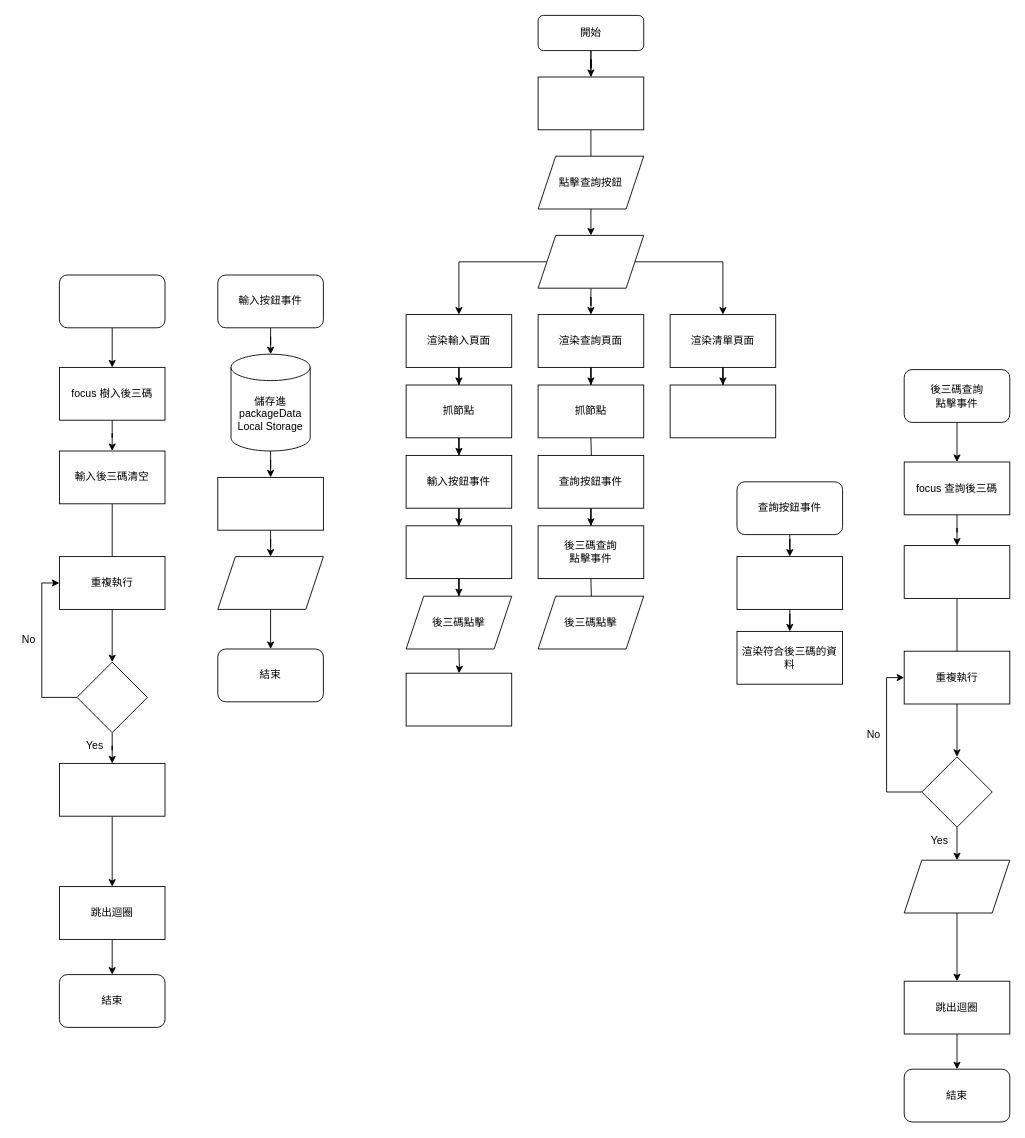
Image size: 1025x1138. Some labels were removed from this diagram. The shapes that lost their labels are listed below. From the top down, each one's centre as x and y in pixels, then its label:
At [590,103]: "頁面選擇按鈕事件".
At [590,261]: "選擇頁面".
At [112,301]: "輸入後三碼 點擊事件".
At [722,411]: "渲染清單".
At [270,503]: "清空 input 內容".
At [458,552]: "後三碼輸入 點擊事件".
At [956,571]: "查詢後三碼清空".
At [270,582]: "重新選擇輸出畫面".
At [789,582]: "找符合後三碼的資料".
At [111,697]: "如果輸入後三碼為 三個字".
At [458,699]: "渲染前三項".
At [112,789]: "focus 輸入名字".
At [956,791]: "如果查詢後三碼為 三個字".
At [956,886]: "點擊查詢送出".
